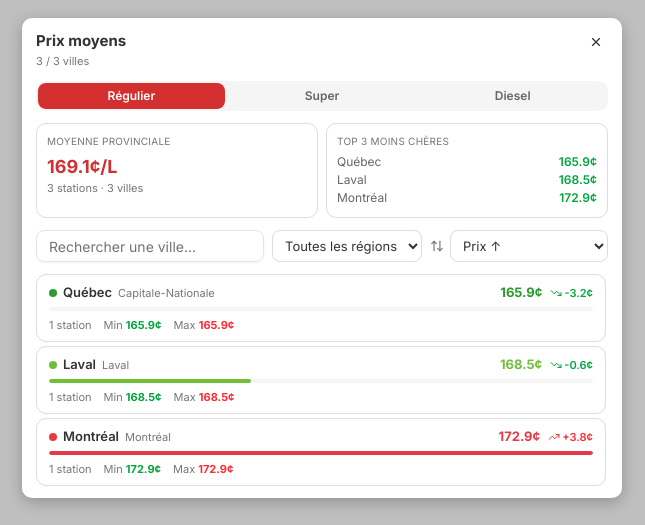
Test: CityPricePanel › affiche 'Aucune ville trouvée' quand la recherche ne matche rien
Type "XYZNONEXISTENT" into the field with placeholder "Rechercher une ville..." at (150, 246), box [36,230,264,262]
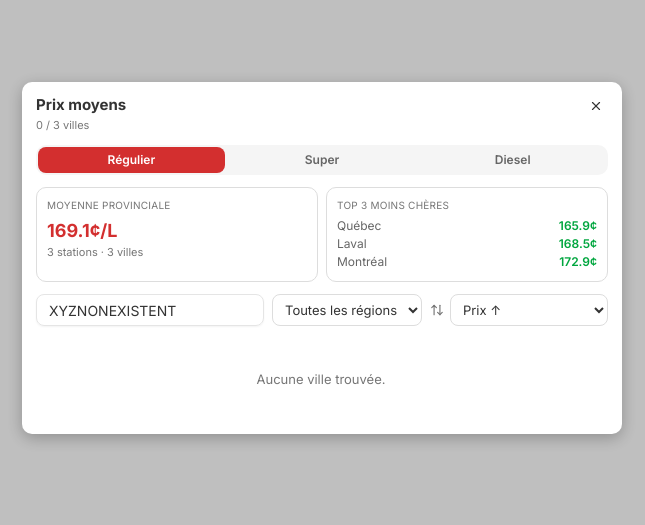
Now the text "Aucune ville trouvée." is shown, box [256,371,386,387]
